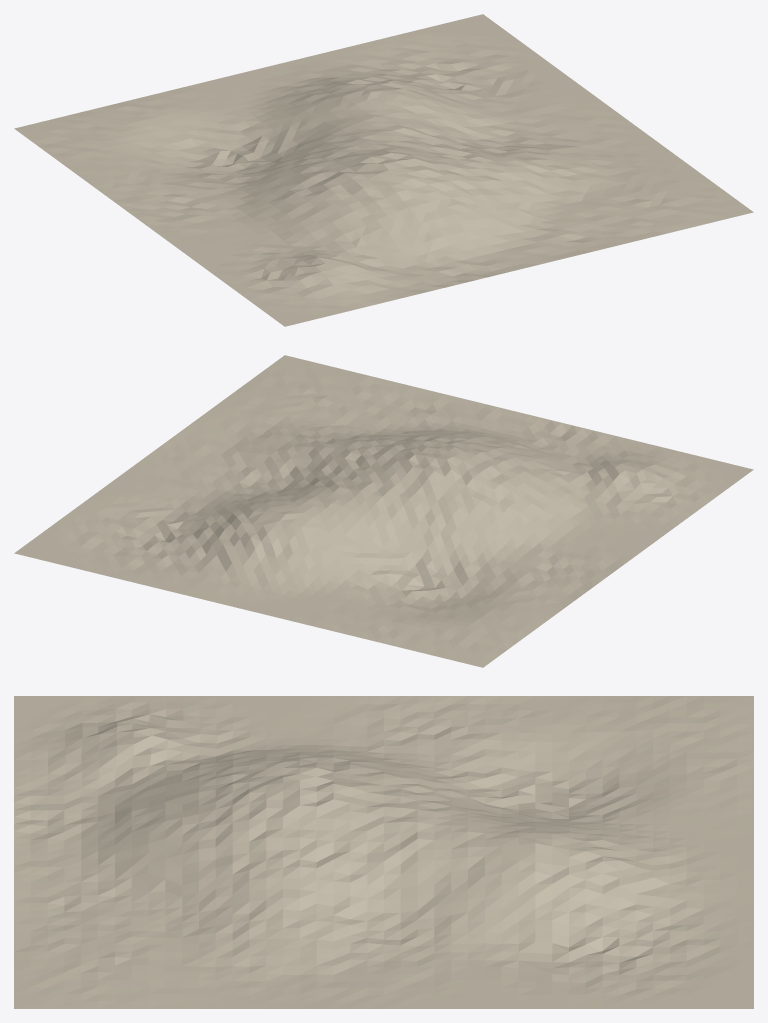
The model's file is Ground_m_02.fbx.
3 views of the same model, one above another, from view 1: azimuth 30°, elevation 25°; view 2: azimuth 150°, elevation 25°; view 3: azimuth 270°, elevation 25° (orthographic). The views are drawn at different scales.
Parts seen in each view (by area): view 1: Ground_m_02; view 2: Ground_m_02; view 3: Ground_m_02.
Part boxes in pixels (x1=…): Ground_m_02: x1=14, y1=14, x2=753, y2=326; Ground_m_02: x1=14, y1=355, x2=753, y2=667; Ground_m_02: x1=14, y1=696, x2=753, y2=1008.
Size of the model in its own units: 10000 by 982 by 10000.
